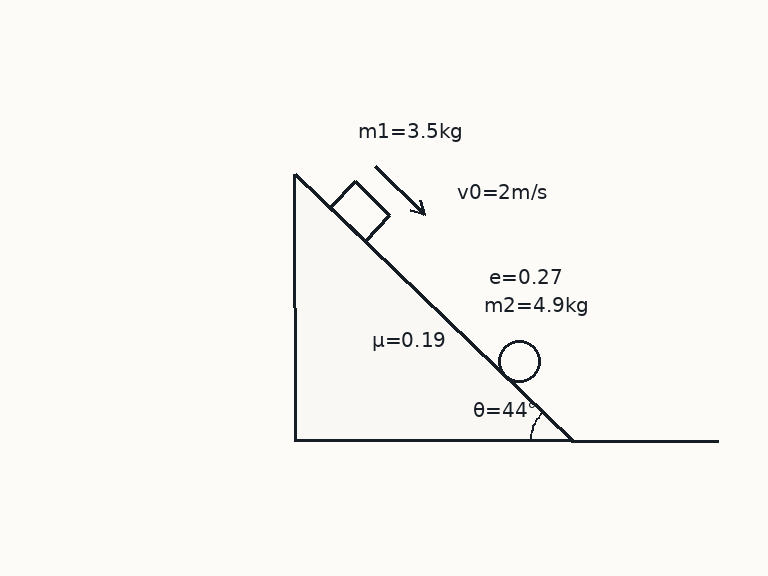ball: (496, 338, 542, 384)
block: (328, 179, 392, 243)
ramp: (293, 172, 573, 442)
